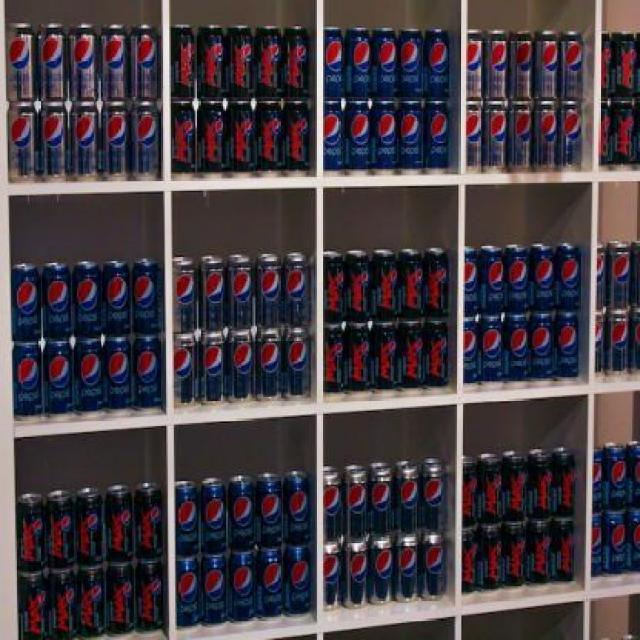Drinks: (37, 101, 69, 183), (5, 22, 37, 102), (100, 101, 132, 181), (6, 102, 37, 184), (69, 101, 100, 183), (130, 99, 161, 181), (16, 493, 47, 573), (37, 22, 68, 100), (68, 23, 99, 101), (71, 262, 102, 340), (42, 341, 73, 419), (73, 338, 104, 416), (102, 337, 133, 415), (132, 336, 163, 414), (99, 23, 130, 100), (129, 23, 160, 100), (101, 260, 132, 337), (42, 261, 71, 343), (47, 490, 76, 572), (76, 486, 105, 568), (196, 24, 227, 100), (12, 263, 41, 343), (105, 486, 134, 566), (134, 482, 163, 562), (225, 100, 254, 178), (197, 99, 225, 179), (199, 477, 227, 557), (253, 100, 282, 177), (281, 99, 310, 176), (132, 259, 161, 336), (13, 344, 42, 421), (197, 330, 226, 407), (227, 476, 256, 553), (197, 256, 226, 332), (254, 253, 283, 329), (283, 251, 312, 327), (226, 329, 255, 405), (254, 328, 283, 404), (46, 569, 77, 640), (282, 471, 310, 548), (106, 563, 135, 637), (135, 562, 164, 636), (226, 25, 254, 101), (282, 24, 310, 100), (371, 100, 399, 176), (399, 99, 427, 175), (226, 254, 254, 330), (371, 248, 399, 324), (398, 247, 426, 323), (77, 567, 106, 640), (283, 328, 312, 400), (254, 26, 282, 100), (343, 101, 371, 175), (17, 573, 48, 639), (256, 472, 282, 550), (345, 27, 373, 99), (397, 322, 425, 394), (200, 557, 228, 629), (343, 464, 369, 541), (369, 462, 395, 539), (420, 458, 446, 535), (228, 554, 256, 625), (255, 551, 283, 622), (283, 548, 311, 619), (527, 448, 553, 524), (175, 478, 199, 560), (171, 101, 195, 179), (371, 323, 397, 395), (170, 23, 194, 100), (172, 257, 196, 334), (173, 333, 197, 410), (395, 459, 419, 536), (478, 452, 502, 529), (503, 449, 527, 526), (509, 29, 535, 100), (559, 30, 585, 101), (532, 101, 558, 172), (504, 244, 530, 315), (530, 243, 556, 314), (606, 240, 632, 311), (424, 321, 450, 392), (503, 316, 529, 387), (425, 98, 449, 174), (346, 248, 370, 324), (399, 29, 425, 98), (424, 28, 450, 97), (610, 100, 636, 169), (553, 313, 579, 382), (368, 537, 394, 606), (483, 99, 507, 173), (508, 99, 532, 173), (425, 246, 449, 320), (342, 542, 368, 610), (394, 536, 420, 604), (421, 535, 447, 603), (345, 323, 369, 395), (485, 29, 509, 100), (534, 30, 558, 101), (558, 101, 582, 172), (480, 246, 504, 317), (555, 242, 579, 313), (529, 312, 553, 383), (175, 559, 199, 630), (553, 446, 576, 520), (324, 250, 346, 326), (373, 29, 397, 98), (612, 31, 636, 100), (605, 310, 629, 379), (480, 316, 503, 387), (604, 442, 627, 513), (324, 326, 346, 398), (478, 528, 502, 594), (526, 523, 550, 589), (551, 520, 575, 586), (502, 525, 526, 589), (603, 513, 626, 579), (324, 26, 344, 100), (323, 466, 341, 543), (325, 101, 343, 175), (463, 455, 480, 532), (323, 542, 341, 614), (466, 100, 483, 174), (467, 29, 484, 100), (465, 245, 481, 317), (463, 318, 479, 389), (462, 530, 478, 594), (592, 447, 604, 518), (591, 517, 603, 579)
